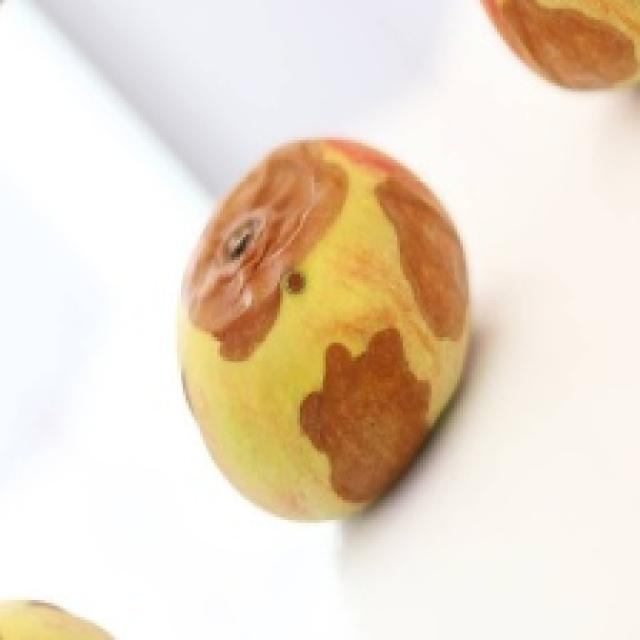rotten_apple: (185, 142, 464, 512)
